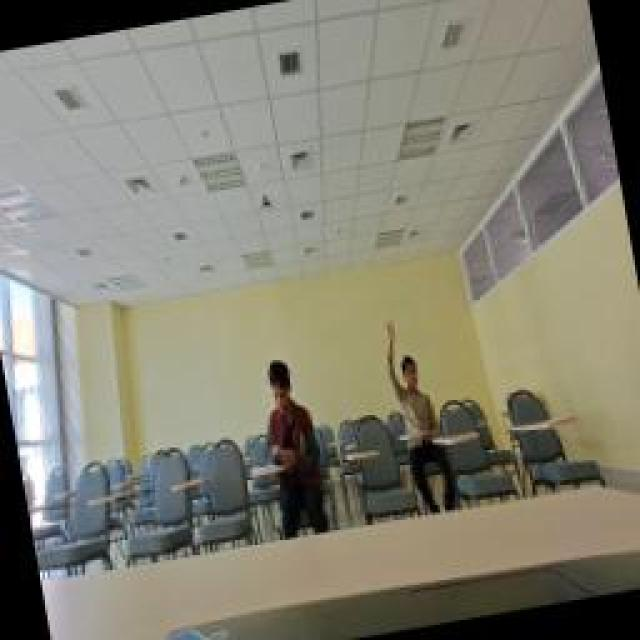study: (242, 355, 320, 473), (378, 313, 442, 445)
